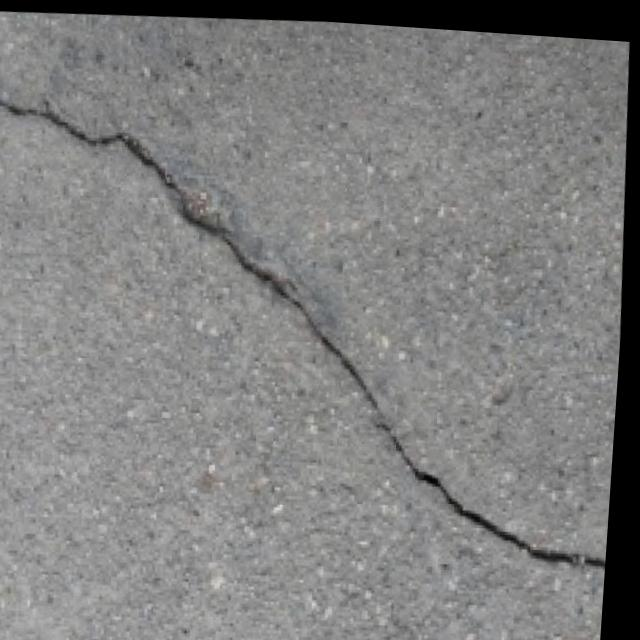Crack: (0, 41, 638, 635)
